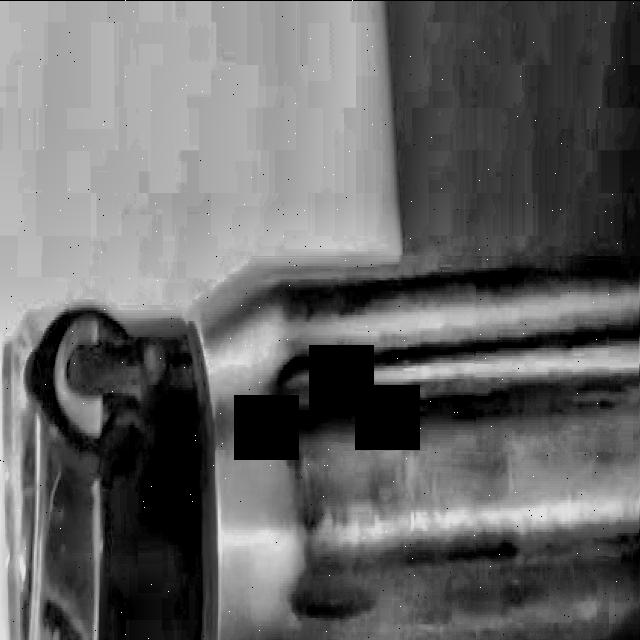bottle: (1, 257, 639, 639)
